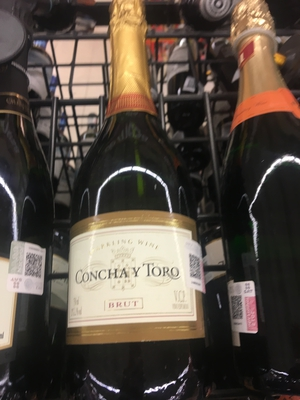brut: (57, 15, 218, 397)
